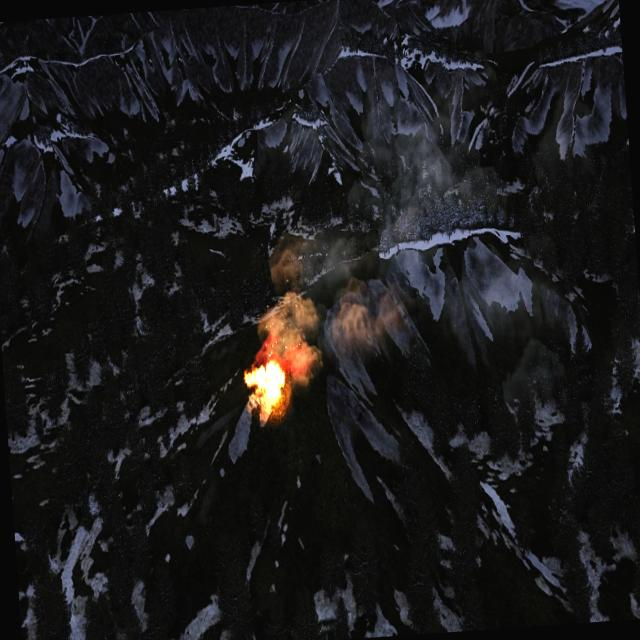fire: (244, 354, 290, 418)
smoke: (240, 58, 570, 434)
